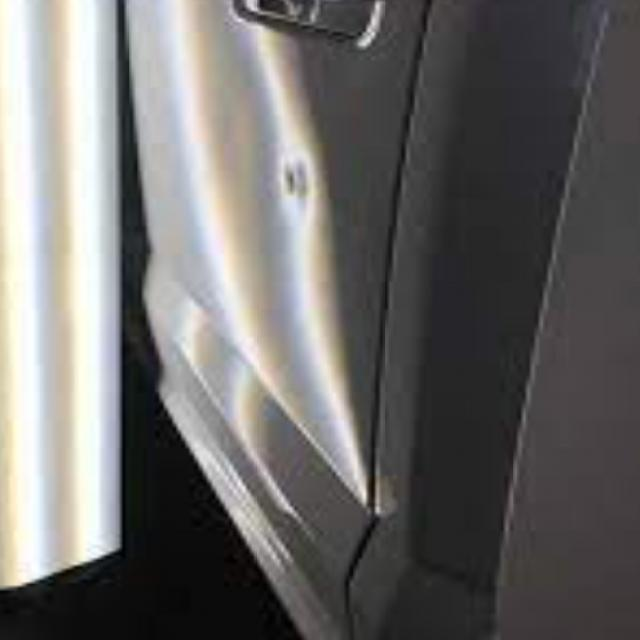dents: (259, 138, 372, 241)
